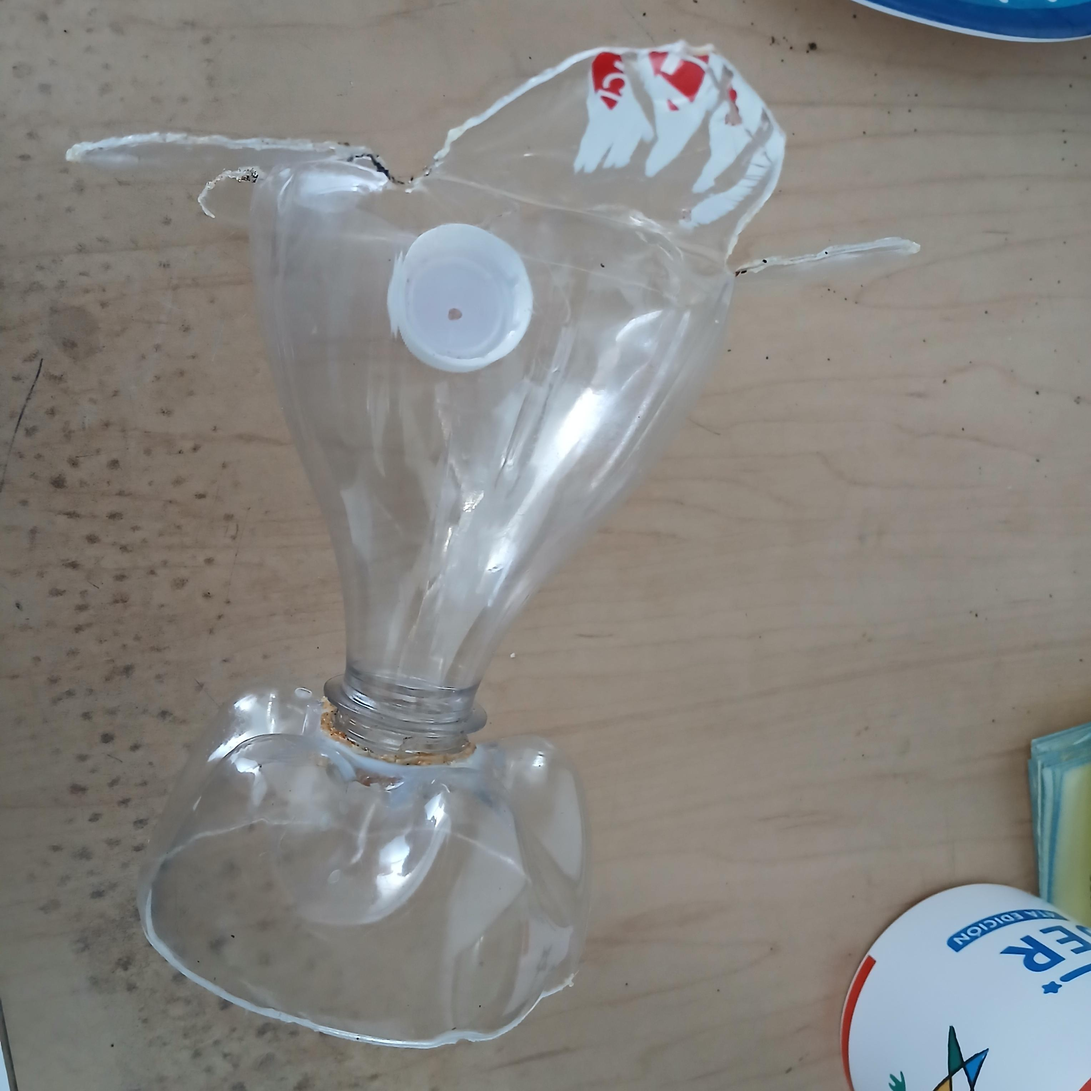Plastico: (65, 40, 919, 1051)
